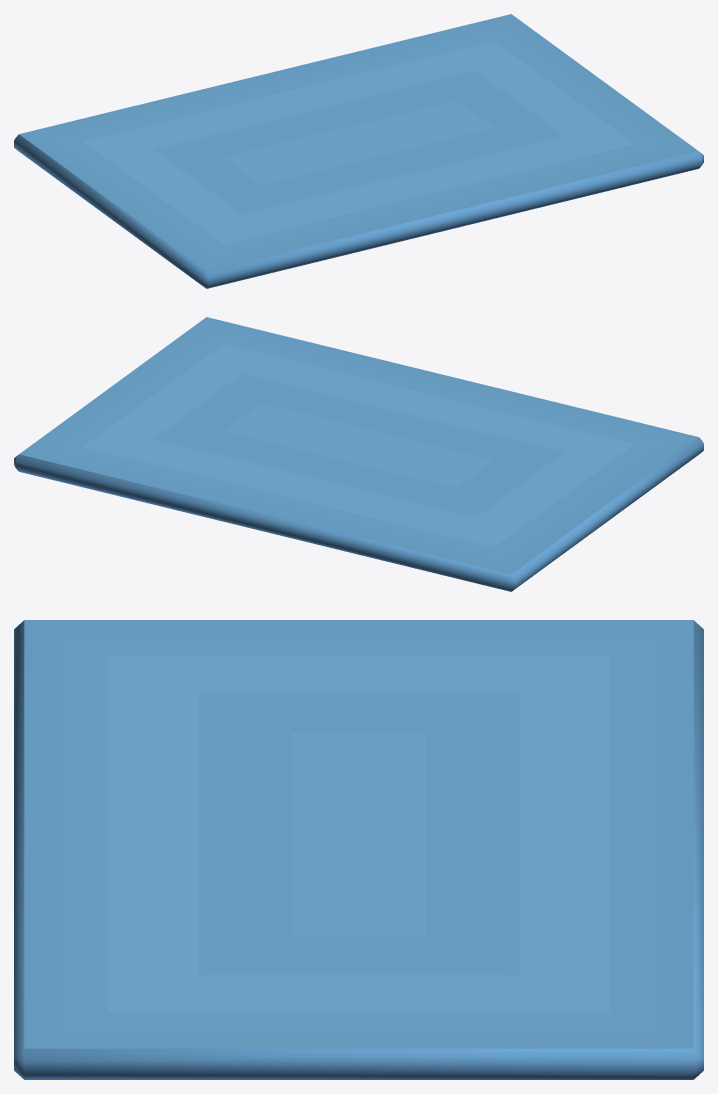
The picture shows the model from 3 angles, top to bottom: view 1: azimuth 30°, elevation 25°; view 2: azimuth 150°, elevation 25°; view 3: azimuth 270°, elevation 25°; orthographic projection. The views are drawn at different scales.
Visible parts, largest first — view 1: rug_rectangle_stripes_B; view 2: rug_rectangle_stripes_B; view 3: rug_rectangle_stripes_B.
Part boxes in pixels (x1,y1,x2,y2): rug_rectangle_stripes_B: (14,14,703,288); rug_rectangle_stripes_B: (14,317,703,591); rug_rectangle_stripes_B: (14,620,703,1079).
Size of the model in its own units: 3 by 0.1 by 2.
1 material, 1 textured.
